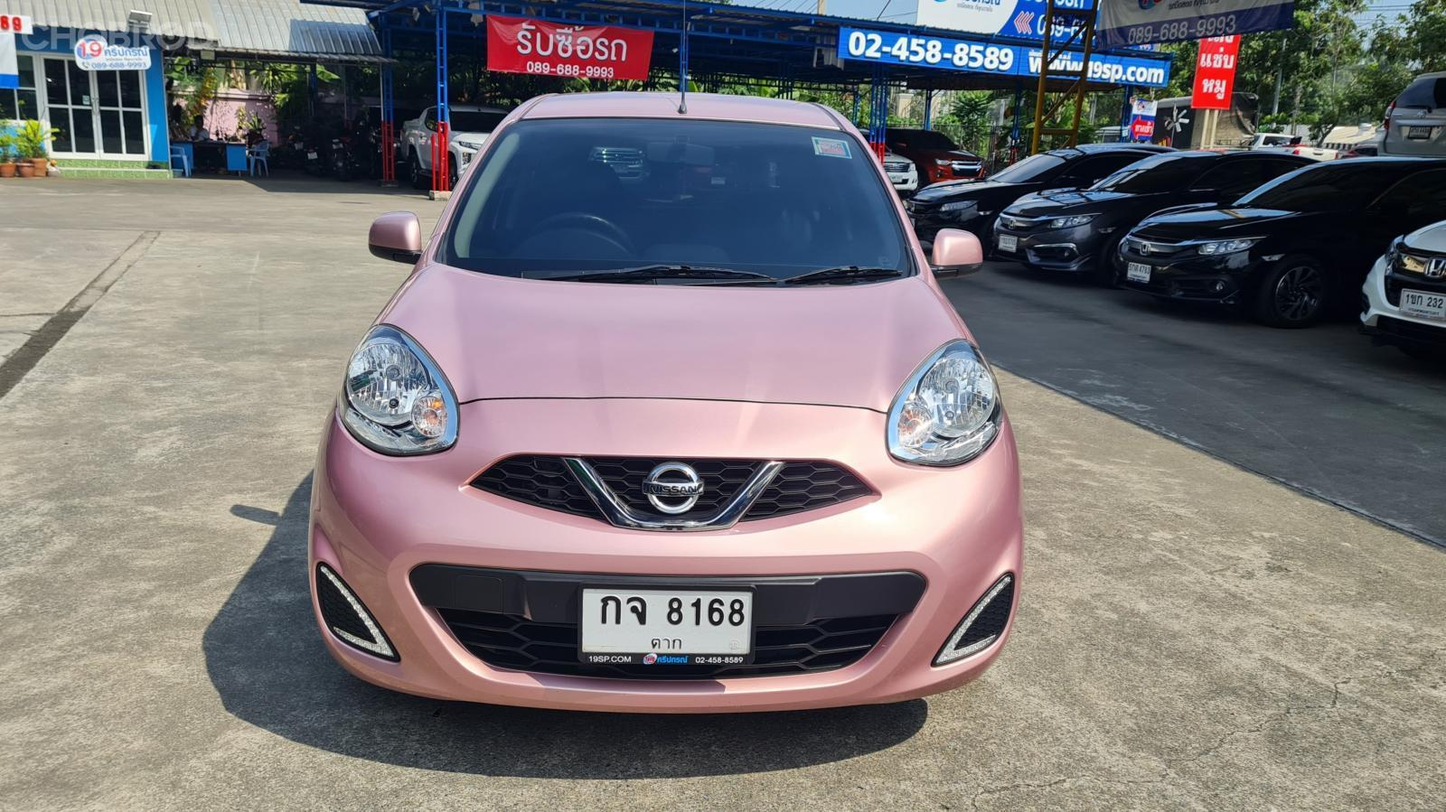license-plate: (578, 579, 757, 671)
